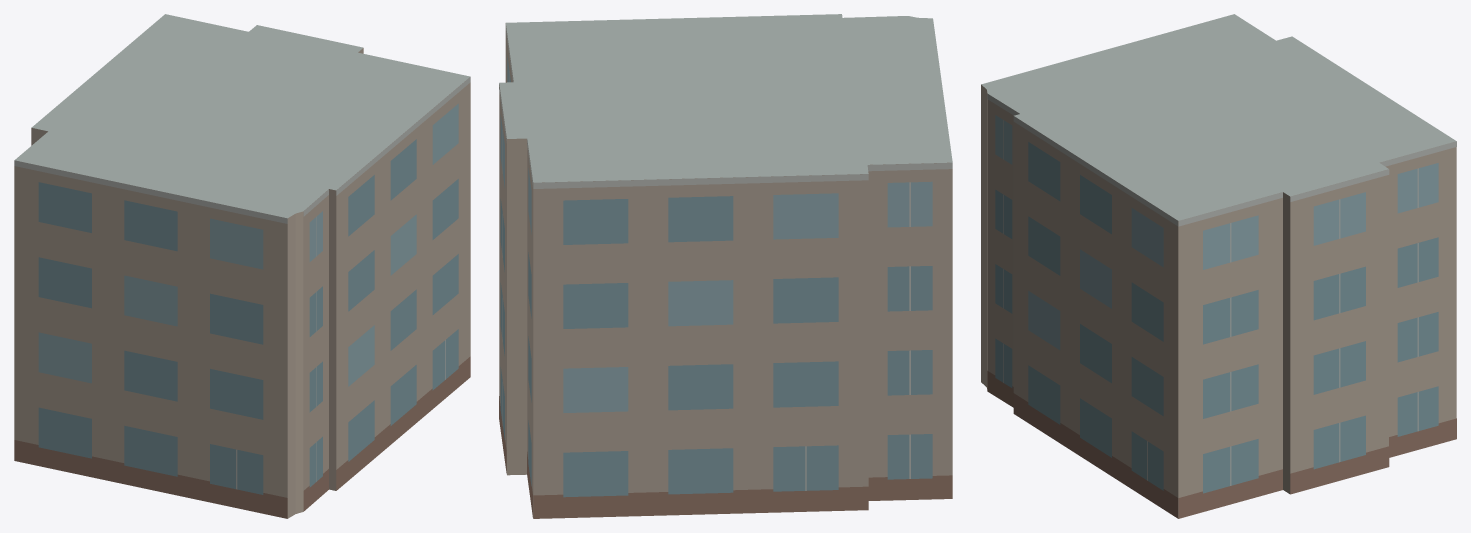
Rendered from survey-upis-32804256.glb.
3 views of the same model, side by side, from view 1: azimuth 30°, elevation 25°; view 2: azimuth 150°, elevation 25°; view 3: azimuth 270°, elevation 25° (orthographic). The views are drawn at different scales.
Visible parts, largest first — view 1: survey-upis-32804256.tmp; view 2: survey-upis-32804256.tmp; view 3: survey-upis-32804256.tmp.
Part boxes in pixels (<box>): survey-upis-32804256.tmp: <box>14,14,470,518</box>; survey-upis-32804256.tmp: <box>499,14,952,518</box>; survey-upis-32804256.tmp: <box>981,14,1456,518</box>.
Size of the model in its own units: 19.08 by 12.8 by 18.53.
